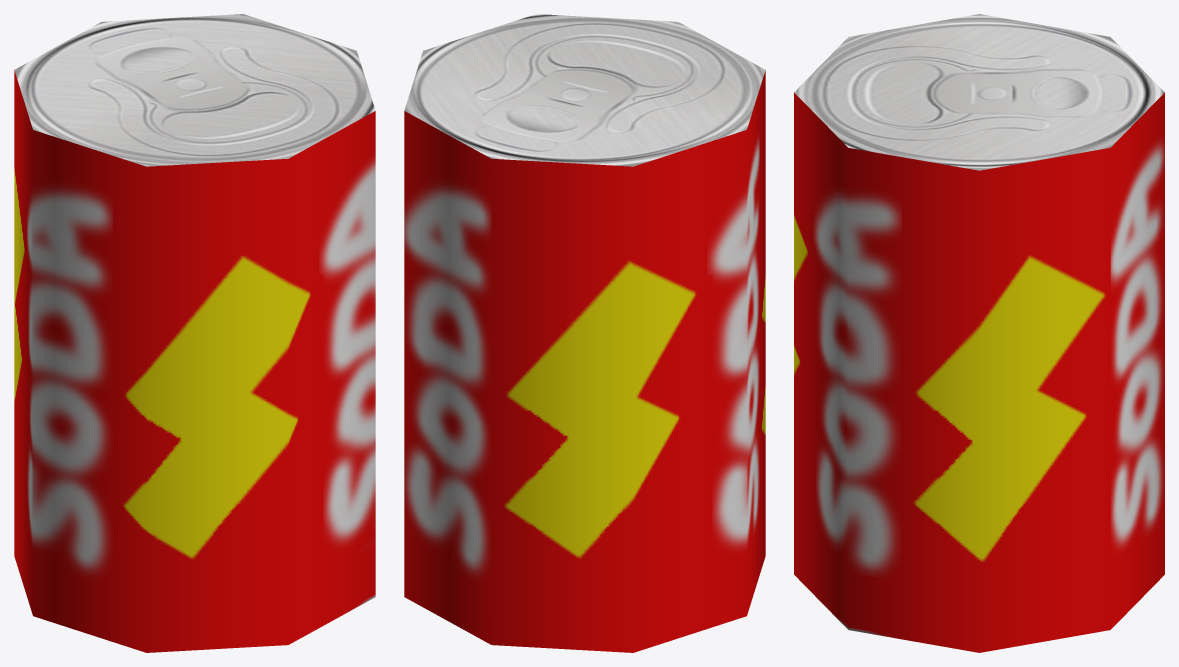
Rendered from Soda.fbx.
3 renders of one model, left to right at view 1: azimuth 30°, elevation 25°; view 2: azimuth 150°, elevation 25°; view 3: azimuth 270°, elevation 25°, orthographic.
Parts seen in each view (by area): view 1: pCylinder1; view 2: pCylinder1; view 3: pCylinder1.
Part boxes in pixels (x1=…): pCylinder1: x1=14, y1=14, x2=375, y2=652; pCylinder1: x1=404, y1=14, x2=765, y2=652; pCylinder1: x1=794, y1=14, x2=1164, y2=652.
Bounding box in the file's own units: 0.00365 × 0.00523 × 0.00365.
